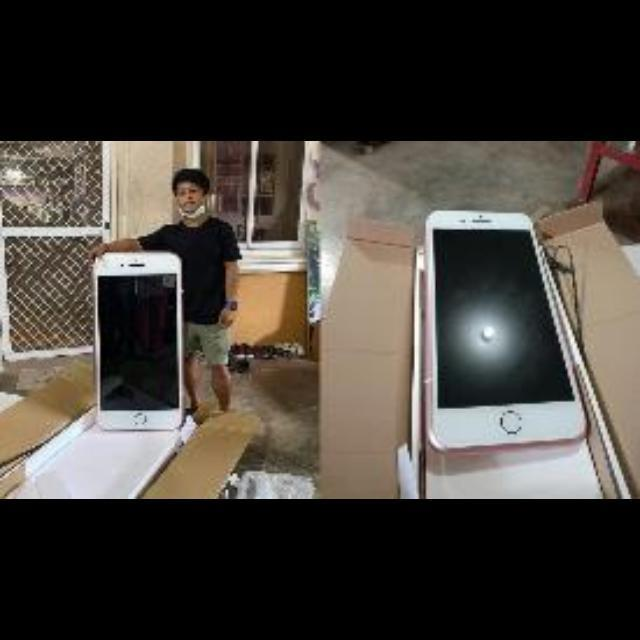PhoneUse: (432, 214, 588, 451), (94, 250, 186, 432)
